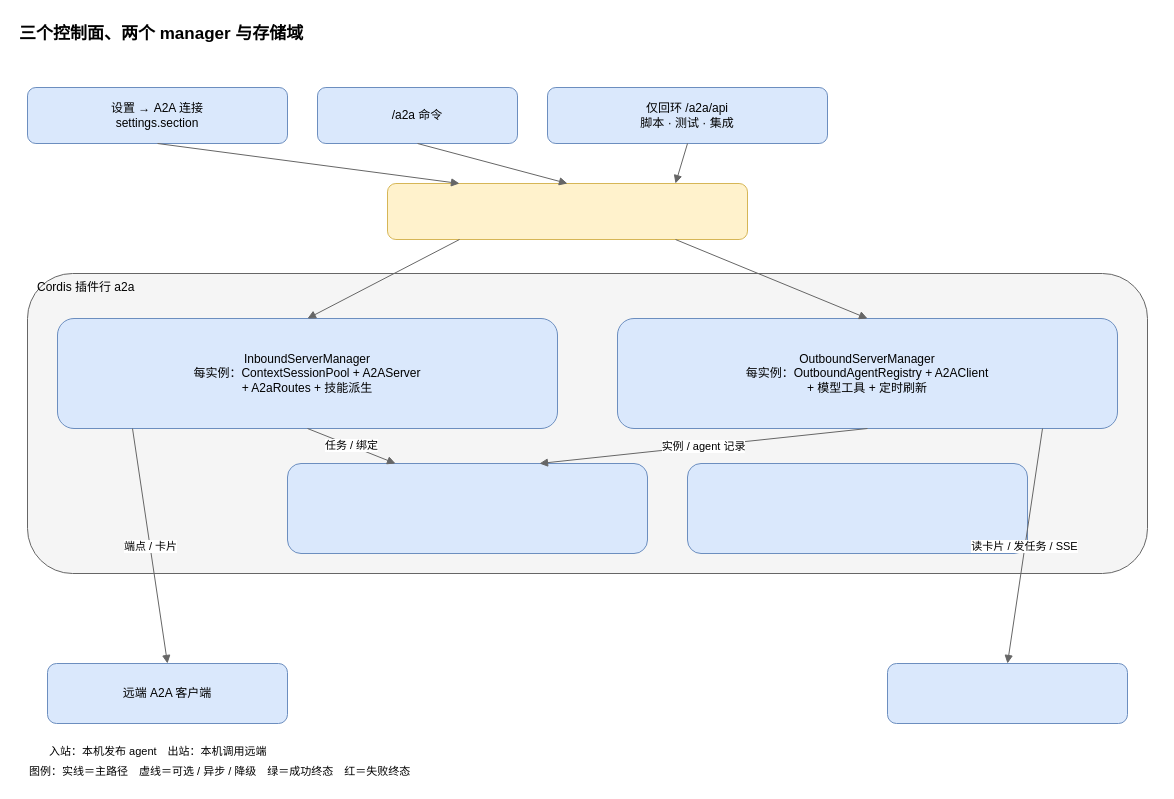
Image size: 1174x799. Some labels were removed from this diagram. Each missing label, with the centre of its shape:
A2aDomain tasks / contexts / agents inbound_servers / outbound_servers: (x=467, y=508)
A2aMetrics · LiveInboundRegistry ContextSessionRegistry · 面板 API: (x=857, y=508)
A2AService ctx.a2a facade: (x=567, y=211)
远端 A2A Agent: (x=1007, y=693)
